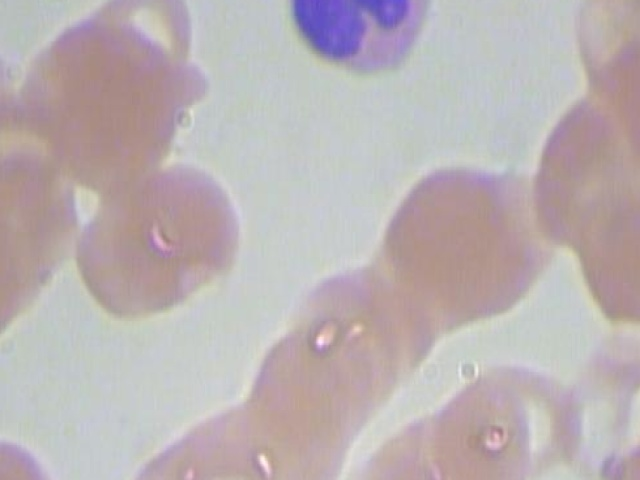WBC: (274, 0, 442, 88)
